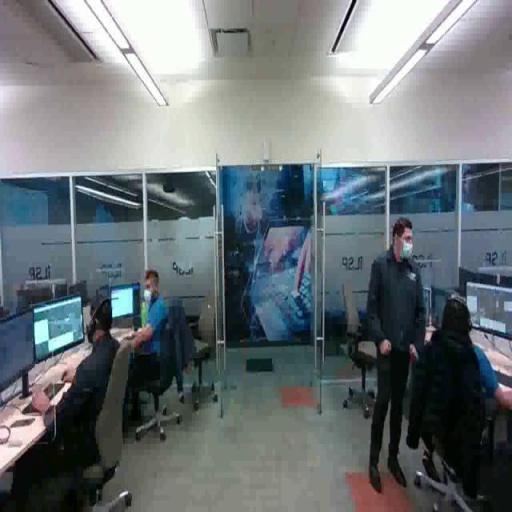person: (15, 292, 129, 512), (423, 291, 512, 510), (367, 214, 431, 495), (118, 269, 186, 405)
